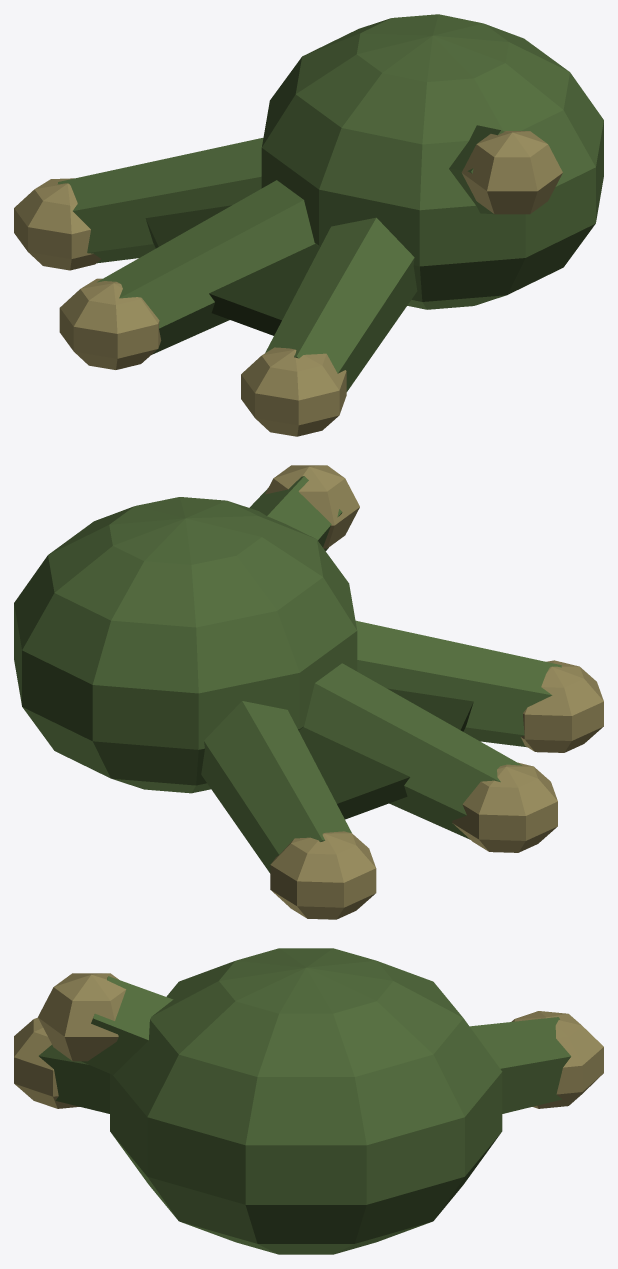
File: pondkin_mudcaller_hand_r.glb
3 views of the same model, one above another, from view 1: azimuth 30°, elevation 25°; view 2: azimuth 150°, elevation 25°; view 3: azimuth 270°, elevation 25° (orthographic). The views are drawn at different scales.
Visible parts, largest first — view 1: pondkin_mudcaller_hand_r; view 2: pondkin_mudcaller_hand_r; view 3: pondkin_mudcaller_hand_r.
Boxes of the visible parts, left/top/right/bottom form: pondkin_mudcaller_hand_r: left=14, top=14, right=603, bottom=436; pondkin_mudcaller_hand_r: left=14, top=465, right=603, bottom=919; pondkin_mudcaller_hand_r: left=14, top=948, right=603, bottom=1254.
Size of the model in its own units: 0.4626 by 0.22 by 0.4397.
